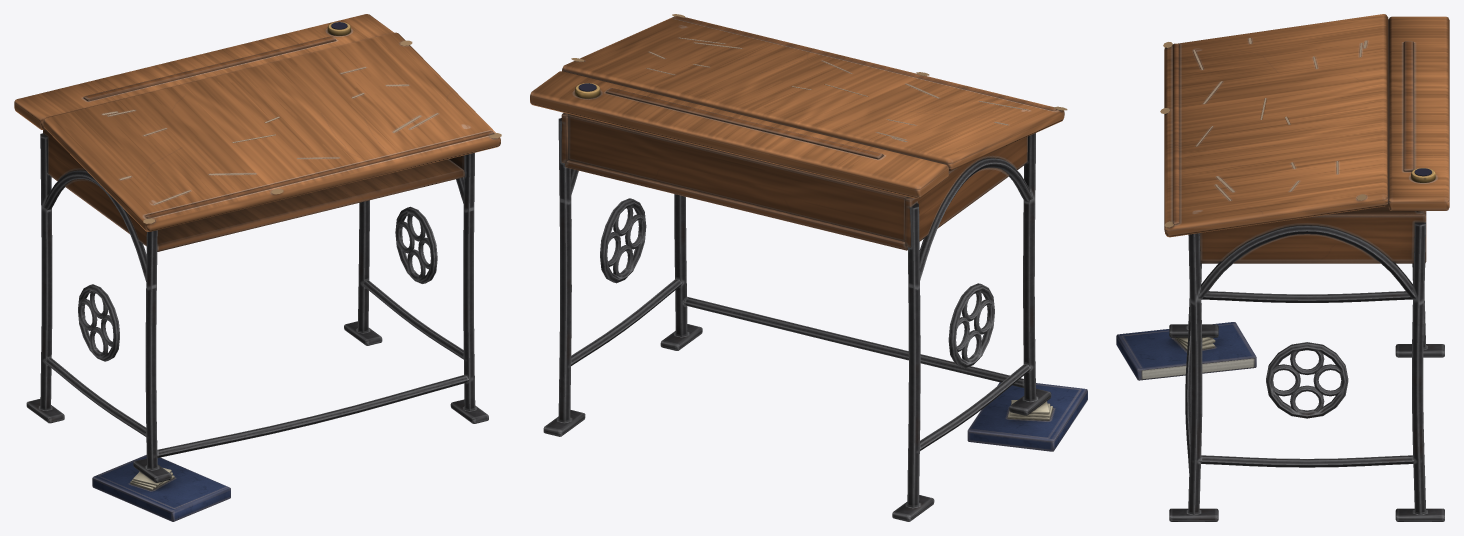
File: StudentDeskWobbly.fbx
3 renders of one model, left to right at view 1: azimuth 30°, elevation 25°; view 2: azimuth 150°, elevation 25°; view 3: azimuth 270°, elevation 25°, orthographic. The views are drawn at different scales.
Visible parts, largest first — view 1: StudentDeskWobbly; view 2: StudentDeskWobbly; view 3: StudentDeskWobbly.
Part boxes in pixels (bbox=[...]): StudentDeskWobbly: bbox=[14, 14, 501, 521]; StudentDeskWobbly: bbox=[530, 14, 1087, 521]; StudentDeskWobbly: bbox=[1116, 14, 1449, 521].
Bounding box in the file's own units: 320 × 255 × 229.
